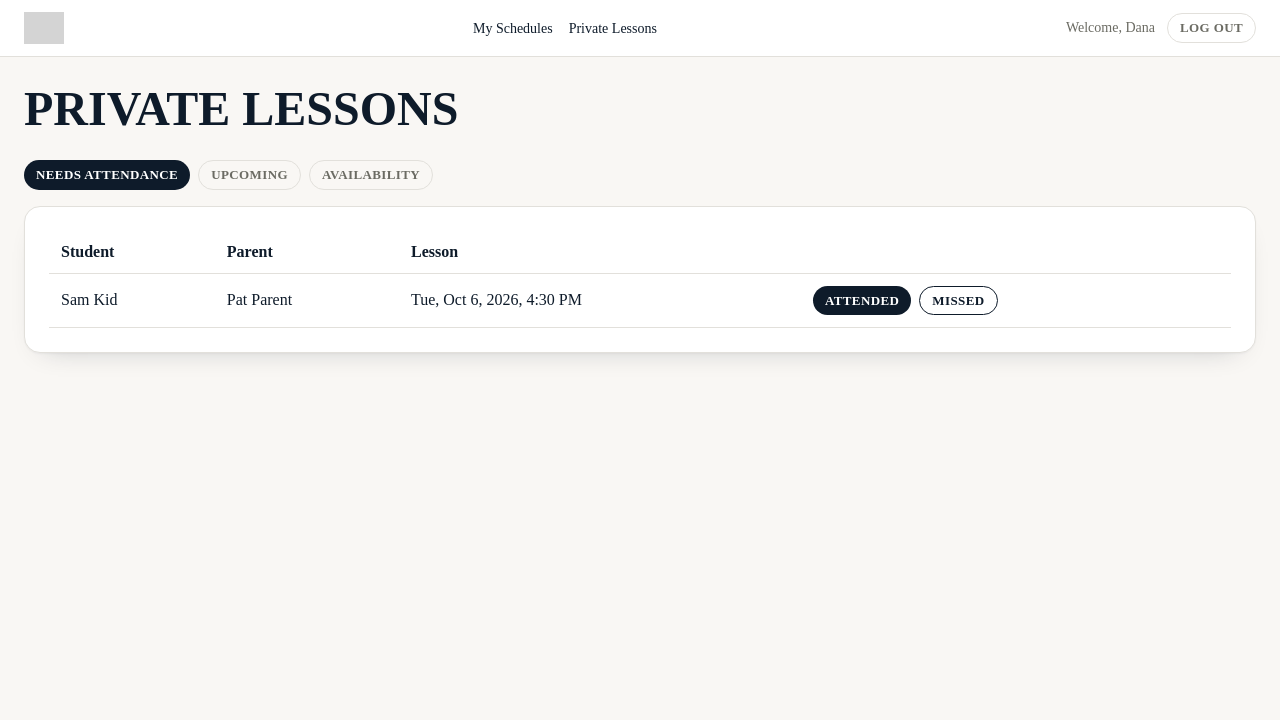
Test: CoachPrivateLessonsPage › marks a started lesson attended — a Visit, no money — and it leaves the to-do list
expect the text "Tue, Oct 6, 2026, 4:30 PM" is shown: met, box left=399, top=273, right=801, bottom=328
What coordinates should you click on to do the following:
click the button "Attended"
I would click on:
 (862, 300)
Its box is left=813, top=286, right=911, bottom=315.
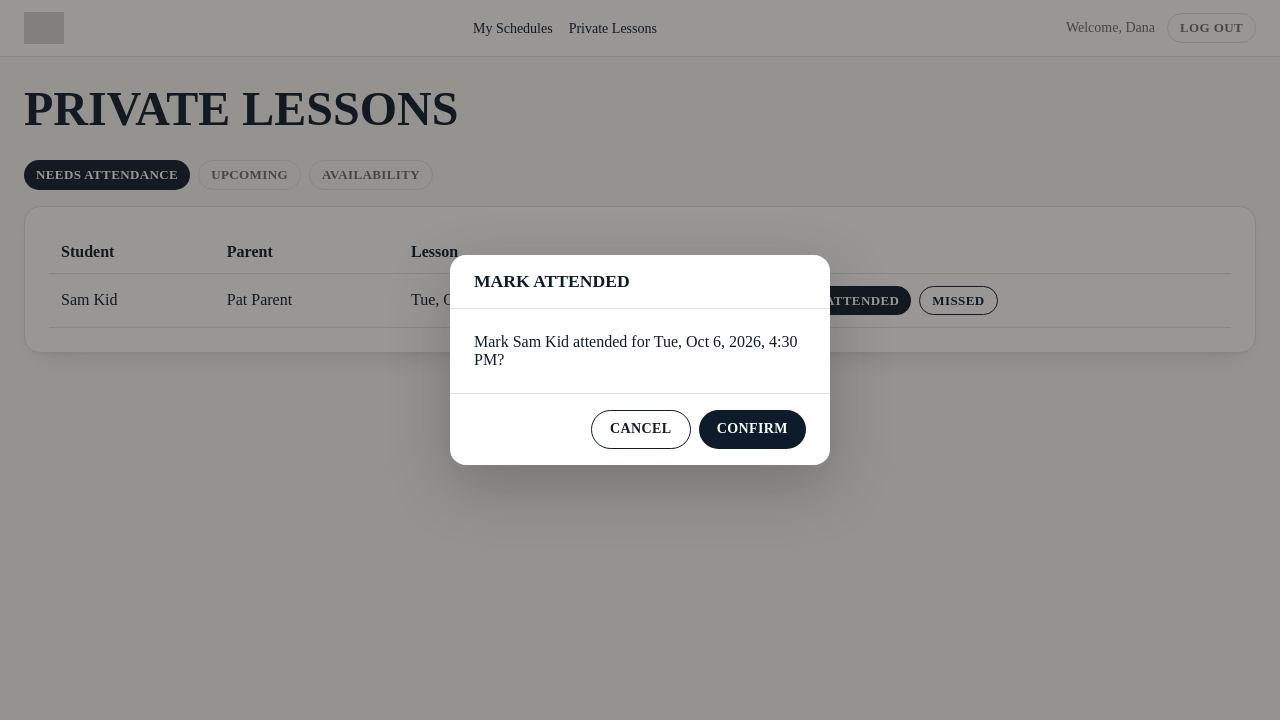
What coordinates should you click on to do the following:
click the button "Confirm"
I would click on:
 (752, 430)
Its box is left=699, top=410, right=806, bottom=449.
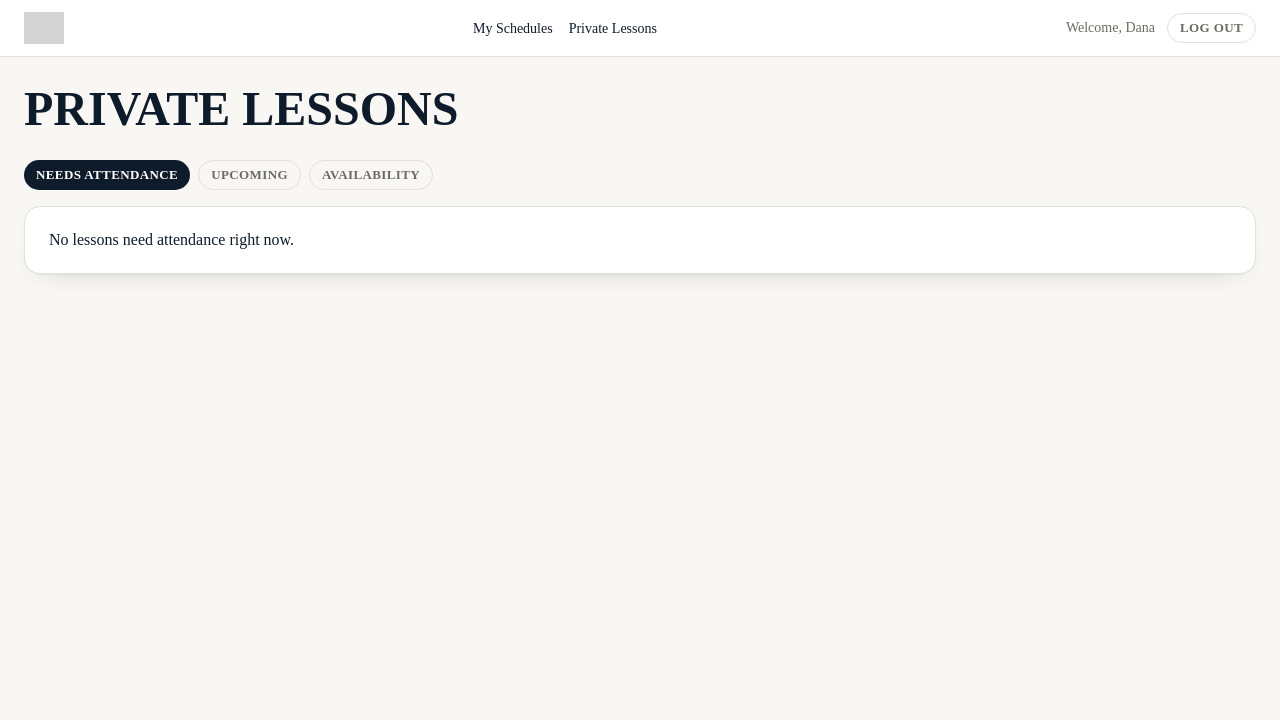
expect the text "No lessons need attendance right now." is shown: met, box left=49, top=231, right=294, bottom=248
